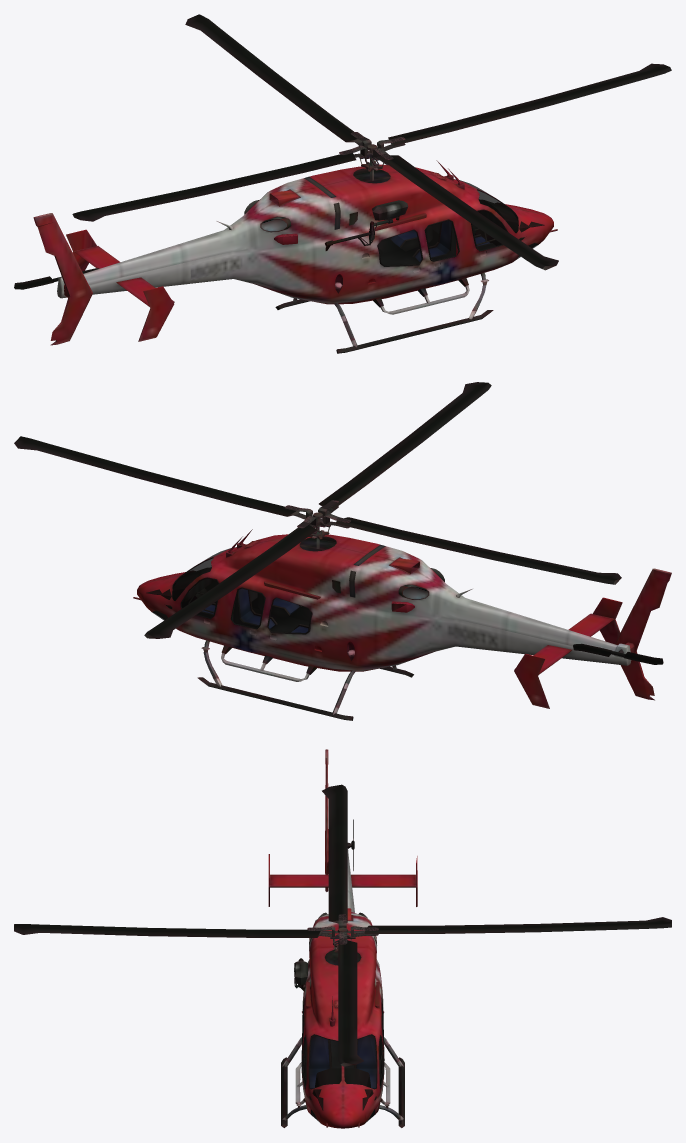
The model's file is bell206-jetranger.glb.
3 renders of one model, top to bottom at view 1: azimuth 30°, elevation 25°; view 2: azimuth 150°, elevation 25°; view 3: azimuth 270°, elevation 25°, orthographic. The views are drawn at different scales.
Visible parts, largest first — view 1: Bell 206 airframe skids and stopped rotors, Bell 206 cabin glazing; view 2: Bell 206 airframe skids and stopped rotors, Bell 206 cabin glazing; view 3: Bell 206 airframe skids and stopped rotors, Bell 206 cabin glazing.
Boxes of the visible parts, x1=… form: Bell 206 airframe skids and stopped rotors: x1=14, y1=14, x2=671, y2=353; Bell 206 cabin glazing: x1=378, y1=179, x2=538, y2=265; Bell 206 airframe skids and stopped rotors: x1=14, y1=382, x2=671, y2=720; Bell 206 cabin glazing: x1=152, y1=547, x2=311, y2=632; Bell 206 airframe skids and stopped rotors: x1=14, y1=749, x2=671, y2=1128; Bell 206 cabin glazing: x1=302, y1=999, x2=383, y2=1123.
Bounding box in the file's own units: 11.9 × 3.31 × 10.91.
2 materials, 1 textured.
